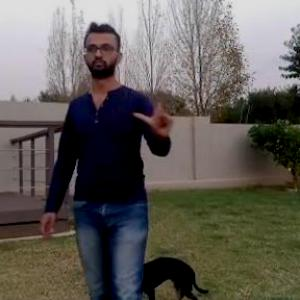land_hand: (133, 80, 179, 138)
